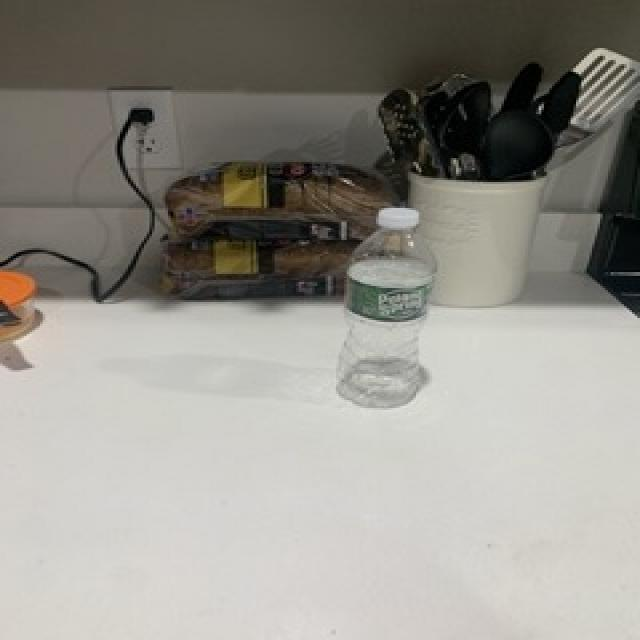water_bottle: (332, 207, 438, 411)
